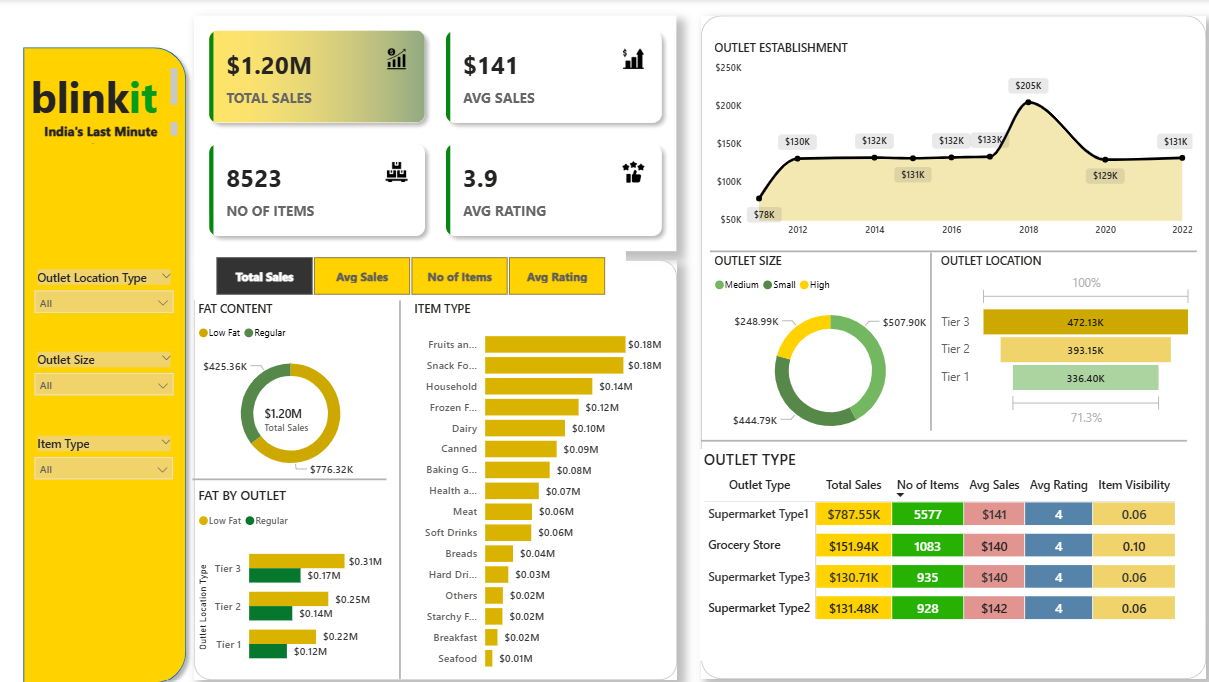

Layout of this report page (visuals, bound fields, positions):
{"tool":"powerbi","page":{"name":"Page 1","canvas":[1400,800],"ordinal":0},"visuals":[{"type":"shape","box":[22.4,46.5,205,749.4],"z":0},{"type":"textbox","box":[34.5,74.1,179.2,62],"z":1000},{"type":"textbox","box":[34.5,136.1,179.2,34.5],"z":2000},{"type":"cardVisual","fields":{"Data":["BlinkIT Grocery Data.Total Sales","BlinkIT Grocery Data.Avg Sales","BlinkIT Grocery Data.No of Items","BlinkIT Grocery Data.Avg Rating"]},"box":[226.8,19.5,554.2,270.3],"z":3000},{"type":"shape","box":[227.4,299.8,554.7,482.4],"z":4000},{"type":"donutChart","title":"FAT CONTENT","fields":{"Y":["BlinkIT Grocery Data.Total Sales"],"Category":["BlinkIT Grocery Data.Item Fat Content"]},"box":[227.3,347,221.2,213.6],"z":5000},{"type":"slicer","fields":{"Values":["Metrics.Metrics"]},"box":[227.4,289.4,496.2,56.9],"z":6000},{"type":"cardVisual","fields":{"Data":["BlinkIT Grocery Data.Total Sales"]},"box":[291.1,449.6,91.3,67.2],"z":7000},{"type":"clusteredBarChart","title":"FAT BY OUTLET","fields":{"Y":["BlinkIT Grocery Data.Total Sales"],"Category":["BlinkIT Grocery Data.Outlet Location Type"],"Series":["BlinkIT Grocery Data.Item Fat Content"]},"box":[227.3,560.6,221.2,221.2],"z":8000},{"type":"shape","box":[225.8,516.7,222.7,69.7],"z":9000},{"type":"shape","box":[424.2,347,80.3,434.8],"z":10000},{"type":"barChart","title":"ITEM TYPE","fields":{"Y":["BlinkIT Grocery Data.Total Sales"],"Category":["BlinkIT Grocery Data.Item Type"]},"box":[475.8,347,293.9,434.8],"z":11000},{"type":"shape","box":[809.1,19.7,580.3,762.1],"z":12000},{"type":"lineChart","title":"OUTLET ESTABLISHMENT","fields":{"Y":["BlinkIT Grocery Data.Total Sales"],"Category":["BlinkIT Grocery Data.Outlet Establishment Year"]},"box":[819.7,47,559.1,234.8],"z":13000},{"type":"shape","box":[819.7,254.5,559.1,69.7],"z":14000},{"type":"donutChart","title":"OUTLET SIZE","fields":{"Y":["BlinkIT Grocery Data.Total Sales"],"Category":["BlinkIT Grocery Data.Outlet Size"]},"box":[819.7,290.9,275.8,225.8],"z":15000},{"type":"shape","box":[1053,290.9,42.4,204.5],"z":16000},{"type":"funnel","title":"OUTLET LOCATION","fields":{"Y":["Sum(BlinkIT Grocery Data.Sales)"],"Category":["BlinkIT Grocery Data.Outlet Location Type"]},"box":[1080.3,290.9,298.5,204.5],"z":17000},{"type":"shape","box":[809.7,484.1,558.2,46.5],"z":18000},{"type":"pivotTable","title":"OUTLET TYPE","fields":{"Rows":["BlinkIT Grocery Data.Outlet Type"],"Values":["BlinkIT Grocery Data.Total Sales","BlinkIT Grocery Data.No of Items","BlinkIT Grocery Data.Avg Sales","BlinkIT Grocery Data.Avg Rating","Avg(BlinkIT Grocery Data.Item Visibility)"]},"box":[808,516.7,570.7,243.3],"z":19000},{"type":"slicer","fields":{"Values":["BlinkIT Grocery Data.Outlet Location Type"]},"box":[34.5,304.9,179.2,82.7],"z":19001},{"type":"slicer","fields":{"Values":["BlinkIT Grocery Data.Outlet Size"]},"box":[34.5,399.7,179.2,82.7],"z":19002},{"type":"slicer","fields":{"Values":["BlinkIT Grocery Data.Item Type"]},"box":[34.5,495.6,178.7,82.6],"z":19003}]}

Visuals, with their boxes in screenshot pixels (x1, y1, x2, y2), scaled from the page's 1400x800 canvas onto the 1209x682 screenshot:
shape: (19, 40, 196, 679)
textbox: (30, 63, 185, 116)
textbox: (30, 116, 185, 145)
cardVisual - BlinkIT Grocery Data.Total Sales x BlinkIT Grocery Data.Avg Sales: (196, 17, 674, 247)
shape: (196, 256, 675, 667)
"FAT CONTENT" donutChart: (196, 296, 387, 478)
slicer - Metrics.Metrics: (196, 247, 625, 295)
cardVisual - BlinkIT Grocery Data.Total Sales: (251, 383, 330, 441)
"FAT BY OUTLET" clusteredBarChart: (196, 478, 387, 666)
shape: (195, 440, 387, 500)
shape: (366, 296, 436, 666)
"ITEM TYPE" barChart: (411, 296, 665, 666)
shape: (699, 17, 1200, 666)
"OUTLET ESTABLISHMENT" lineChart: (708, 40, 1191, 240)
shape: (708, 217, 1191, 276)
"OUTLET SIZE" donutChart: (708, 248, 946, 440)
shape: (909, 248, 946, 422)
"OUTLET LOCATION" funnel: (933, 248, 1191, 422)
shape: (699, 413, 1181, 452)
"OUTLET TYPE" pivotTable: (698, 440, 1191, 648)
slicer - BlinkIT Grocery Data.Outlet Location Type: (30, 260, 185, 330)
slicer - BlinkIT Grocery Data.Outlet Size: (30, 341, 185, 411)
slicer - BlinkIT Grocery Data.Item Type: (30, 422, 184, 493)
